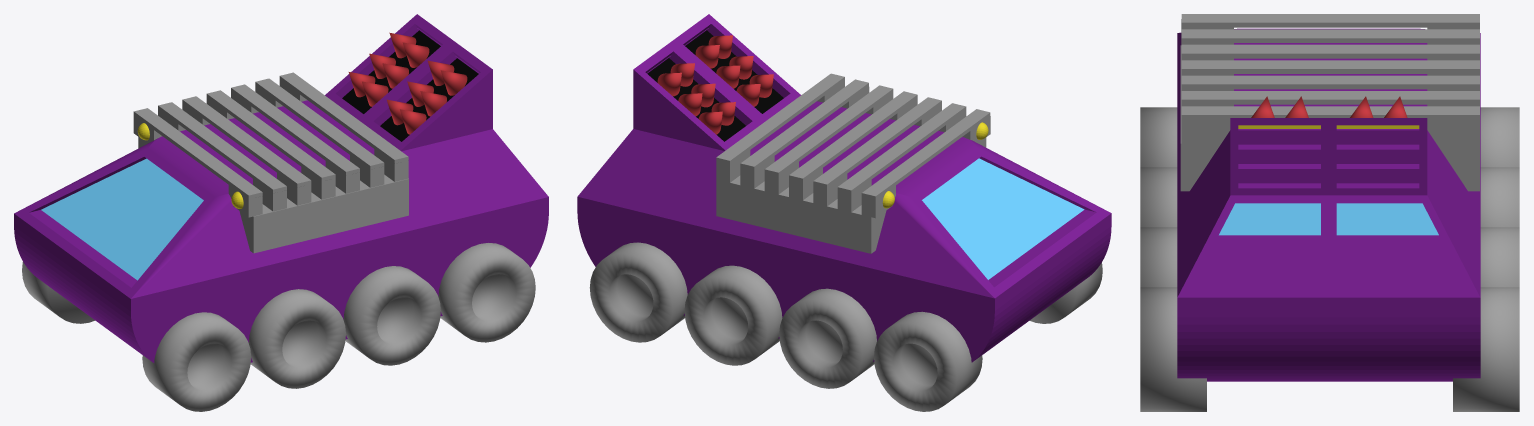
The model's file is Car.fbx.
3 renders of one model, left to right at view 1: azimuth 30°, elevation 25°; view 2: azimuth 150°, elevation 25°; view 3: azimuth 270°, elevation 25°, orthographic. The views are drawn at different scales.
Visible parts, largest first — view 1: Cube, Куб, Cube.002, Окружность.007, Окружность.006, Окружность.005, Окружность.004, Cube.004, Окружность.003; view 2: Cube, Куб, Cube.002, Окружность.003, Окружность, Окружность.002, Окружность.001, Cube.004, Окружность.007; view 3: Cube, Куб, Cube.003, Окружность, Окружность.004, Окружность.001, Окружность.002, Окружность.003, Окружность.005, Окружность.006, Окружность.007, Cube.001.
Part boxes in pixels (box(x1,y1,x2,y2)): Cube: box(14, 14, 548, 362); Куб: box(133, 72, 408, 253); Cube.002: box(41, 158, 203, 280); Окружность.007: box(142, 312, 251, 411); Окружность.006: box(248, 289, 345, 388); Окружность.005: box(343, 266, 440, 365); Окружность.004: box(438, 243, 535, 342); Cube.004: box(342, 30, 478, 141); Окружность.003: box(22, 262, 94, 323); Cube: box(577, 14, 1111, 362); Куб: box(716, 73, 990, 253); Cube.002: box(922, 158, 1084, 279); Окружность.003: box(874, 311, 982, 411); Окружность: box(589, 242, 687, 342); Окружность.002: box(779, 288, 876, 388); Окружность.001: box(684, 265, 782, 365); Cube.004: box(647, 30, 783, 141); Окружность.007: box(1029, 262, 1102, 323); Cube: box(1177, 28, 1480, 381); Куб: box(1180, 14, 1479, 191); Cube.003: box(1219, 203, 1438, 235); Окружность: box(1453, 287, 1519, 411); Окружность.004: box(1140, 287, 1206, 411); Окружность.001: box(1480, 227, 1519, 287); Окружность.002: box(1480, 167, 1519, 227); Окружность.003: box(1480, 107, 1519, 167); Окружность.005: box(1140, 227, 1177, 287); Окружность.006: box(1140, 167, 1177, 227); Окружность.007: box(1140, 107, 1177, 167); Cube.001: box(1238, 125, 1419, 128).
Bounding box in the file's own units: 664 × 362 × 402.
